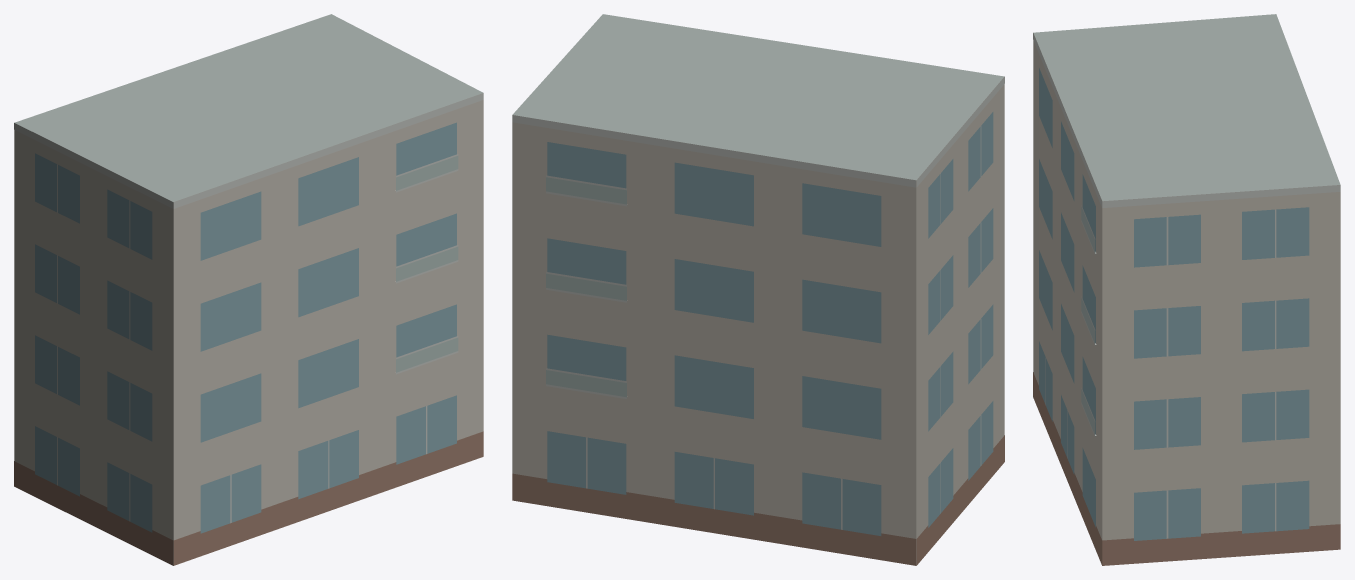
Rendered from survey-upis-33008767.glb.
3 renders of one model, left to right at view 1: azimuth 30°, elevation 25°; view 2: azimuth 150°, elevation 25°; view 3: azimuth 270°, elevation 25°, orthographic. The views are drawn at different scales.
Parts seen in each view (by area): view 1: survey-upis-33008767.tmp; view 2: survey-upis-33008767.tmp; view 3: survey-upis-33008767.tmp.
Boxes of the visible parts, x1,y1,x2,y2 form: survey-upis-33008767.tmp: (14,14,483,565); survey-upis-33008767.tmp: (512,14,1004,565); survey-upis-33008767.tmp: (1033,14,1340,565).
Size of the model in its own units: 14.1 by 12.8 by 9.79.
